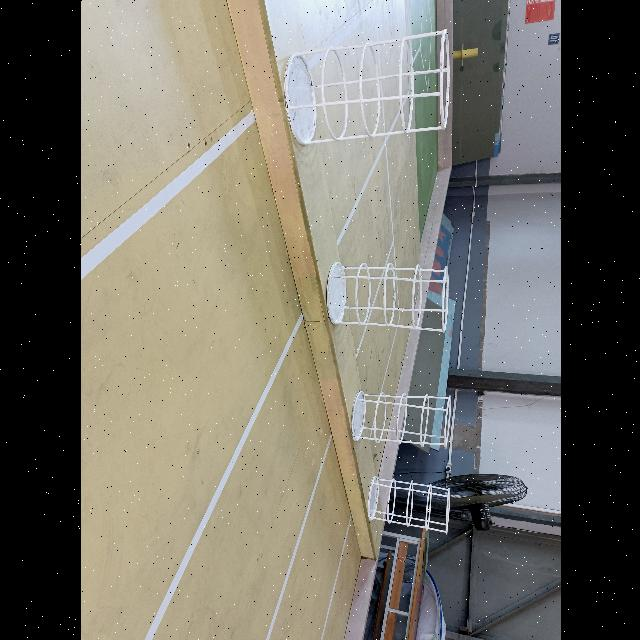S: (280, 26, 452, 148), (325, 261, 449, 333), (350, 389, 452, 449), (365, 474, 451, 536)
